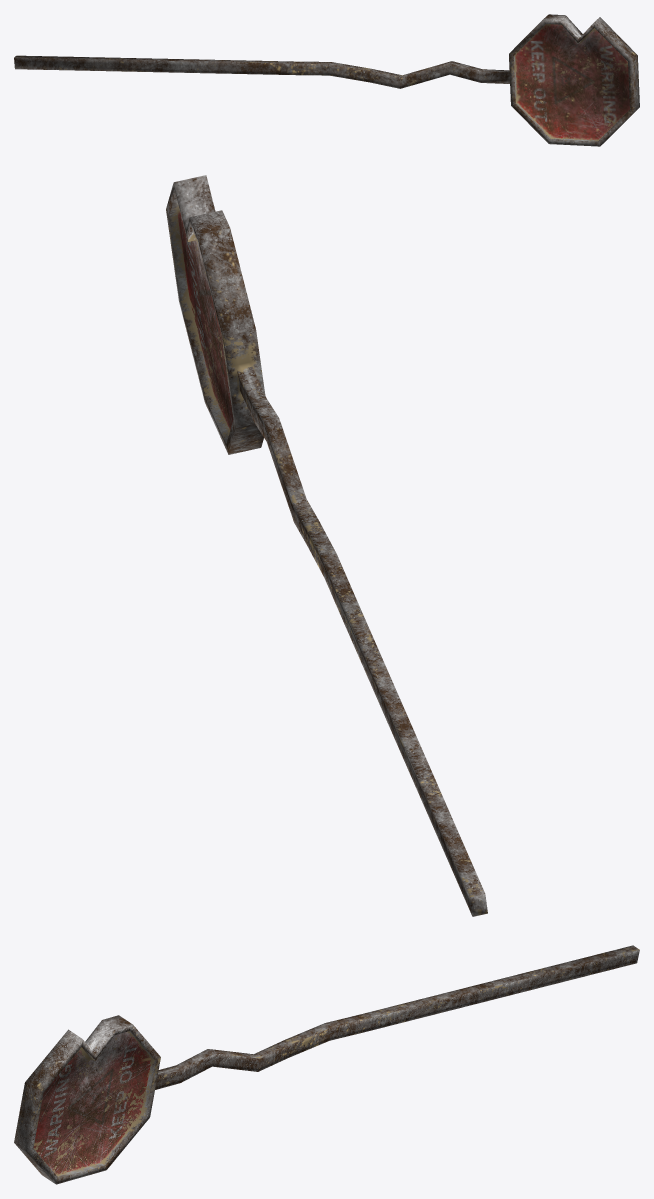
Rendered from Anim_idle_senyal_objetos.0034.obj.
3 renders of one model, top to bottom at view 1: azimuth 30°, elevation 25°; view 2: azimuth 150°, elevation 25°; view 3: azimuth 270°, elevation 25°, orthographic. The views are drawn at different scales.
Size of the model in its own units: 8.68 by 2.6 by 9.38.
